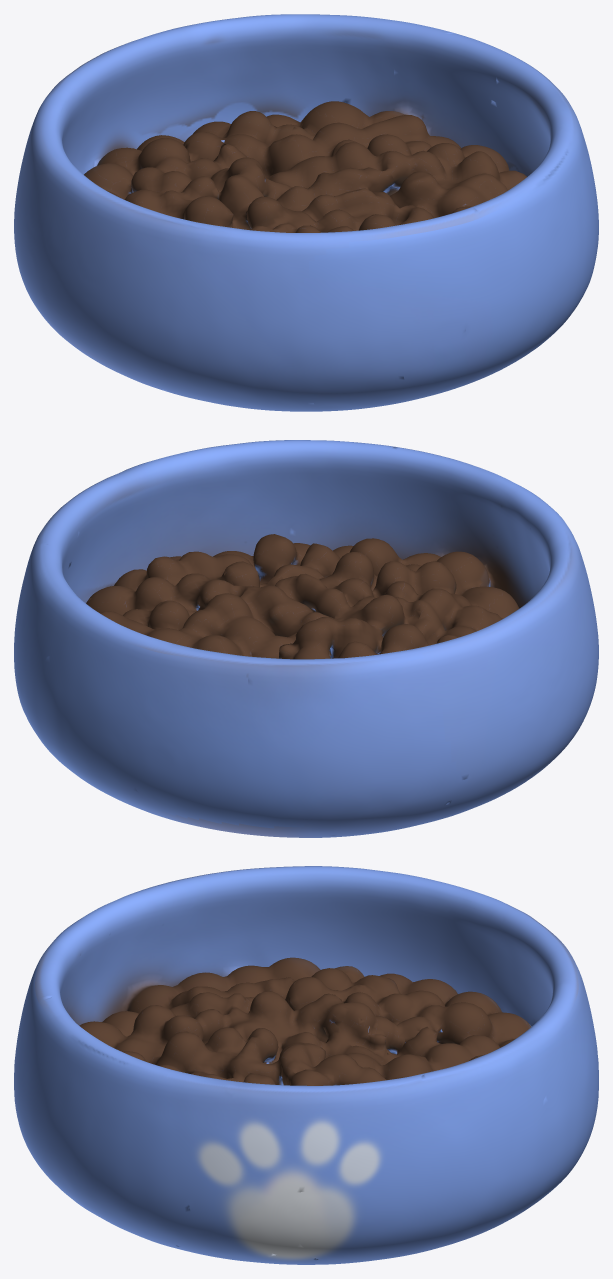
Rendered from Bowl2.fbx.
The picture shows the model from 3 angles, top to bottom: view 1: azimuth 30°, elevation 25°; view 2: azimuth 150°, elevation 25°; view 3: azimuth 270°, elevation 25°; orthographic projection.
Visible parts, largest first — view 1: Pastel Blue; view 2: Pastel Blue; view 3: Pastel Blue.
Boxes of the visible parts, box(x1,y1,x2,y2) form: Pastel Blue: box(14, 14, 598, 411); Pastel Blue: box(14, 440, 598, 837); Pastel Blue: box(14, 866, 598, 1264).
Bounding box in the file's own units: 200 × 80.41 × 200.
1 material, 1 textured.
